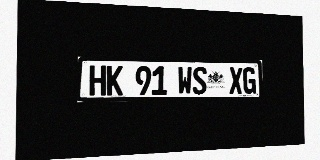1: (152, 66, 167, 95)
9: (136, 66, 151, 95)
G: (243, 67, 256, 94)
H: (89, 65, 106, 96)
K: (107, 66, 123, 96)
S: (193, 67, 207, 95)
W: (178, 66, 192, 95)
X: (229, 67, 243, 94)
